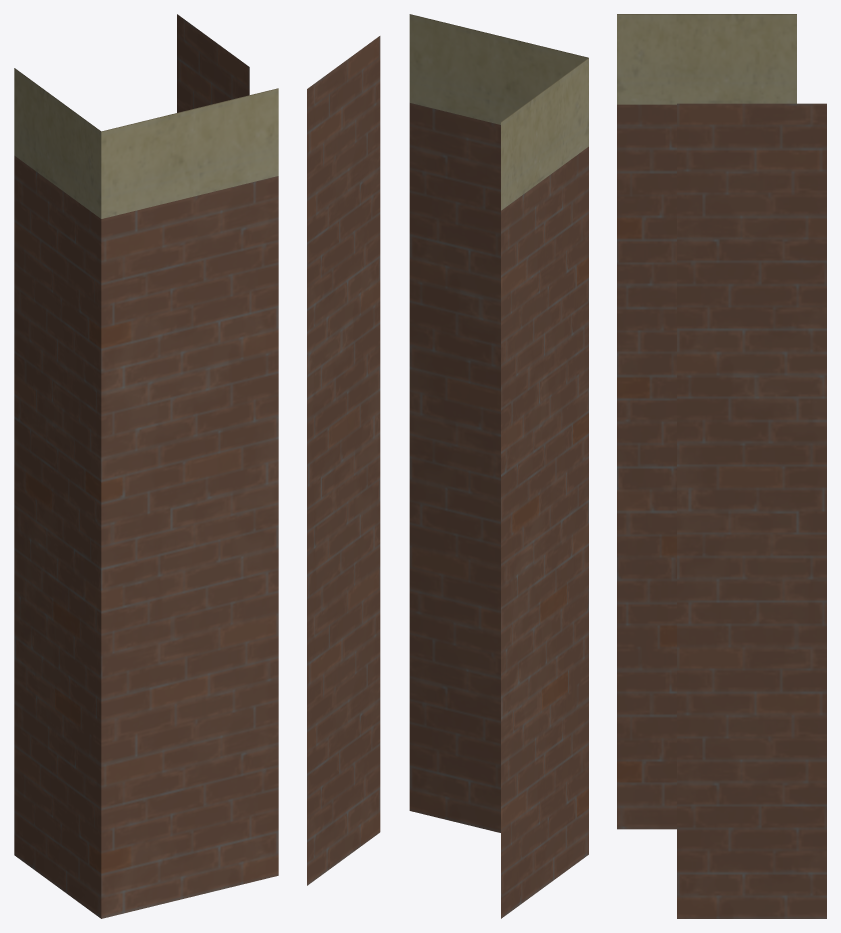
The model's file is brick_toptrim_90angle_r.glb.
3 renders of one model, left to right at view 1: azimuth 30°, elevation 25°; view 2: azimuth 150°, elevation 25°; view 3: azimuth 270°, elevation 25°, orthographic. The views are drawn at different scales.
Visible parts, largest first — view 1: Brick_TopTrim_90Angle_R; view 2: Brick_TopTrim_90Angle_R; view 3: Brick_TopTrim_90Angle_R.
Boxes of the visible parts, bbox=[...] form: Brick_TopTrim_90Angle_R: bbox=[14, 14, 278, 918]; Brick_TopTrim_90Angle_R: bbox=[307, 14, 588, 918]; Brick_TopTrim_90Angle_R: bbox=[617, 14, 826, 918].
Bounding box in the file's own units: 0.7062 × 3 × 0.7.
3 materials, 3 textured.
